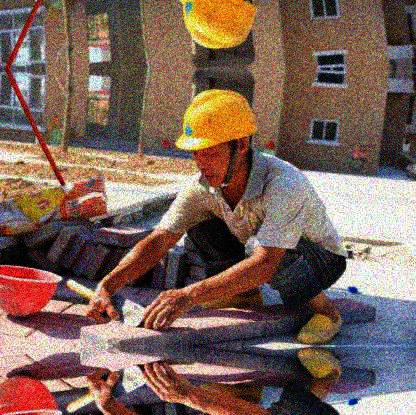helmet: (168, 88, 261, 190)
